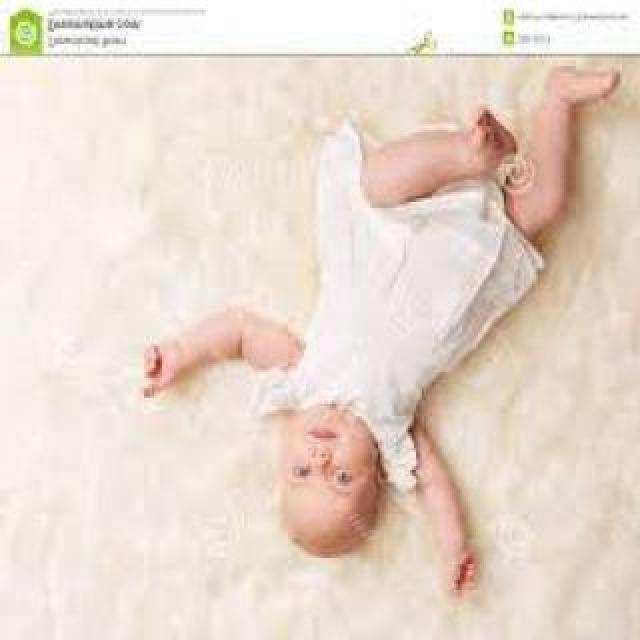baby: (143, 64, 621, 602)
